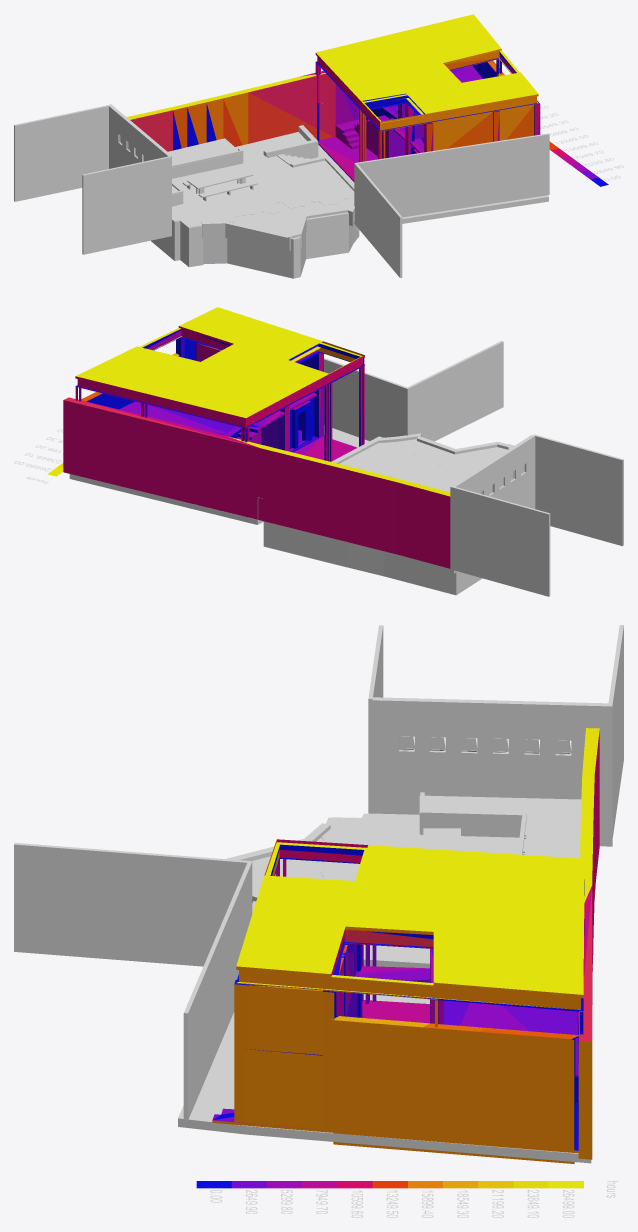
Rendered from directsunhours.glb.
3 renders of one model, top to bottom at view 1: azimuth 30°, elevation 25°; view 2: azimuth 150°, elevation 25°; view 3: azimuth 270°, elevation 25°, orthographic. The views are drawn at different scales.
Parts seen in each view (by area): view 1: SunDirectHours_bake, modelo, legend; view 2: modelo, SunDirectHours_bake; view 3: modelo, SunDirectHours_bake, legend.
Part boxes in pixels (x1,y1,x2,y2): SunDirectHours_bake: [14, 99, 623, 278]; modelo: [127, 14, 540, 181]; legend: [549, 141, 608, 186]; modelo: [63, 307, 450, 568]; SunDirectHours_bake: [14, 340, 623, 596]; modelo: [212, 728, 599, 1163]; SunDirectHours_bake: [14, 625, 623, 1217]; legend: [196, 1181, 583, 1188].
Bounding box in the file's own units: 33.57 × 7.14 × 19.72.
